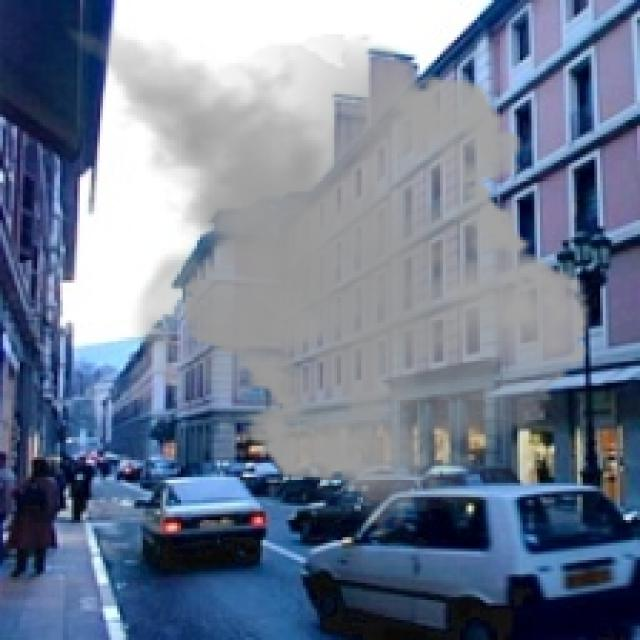smoke: (37, 14, 606, 540)
